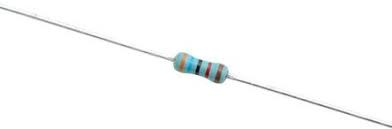resistor: (162, 46, 262, 93)
